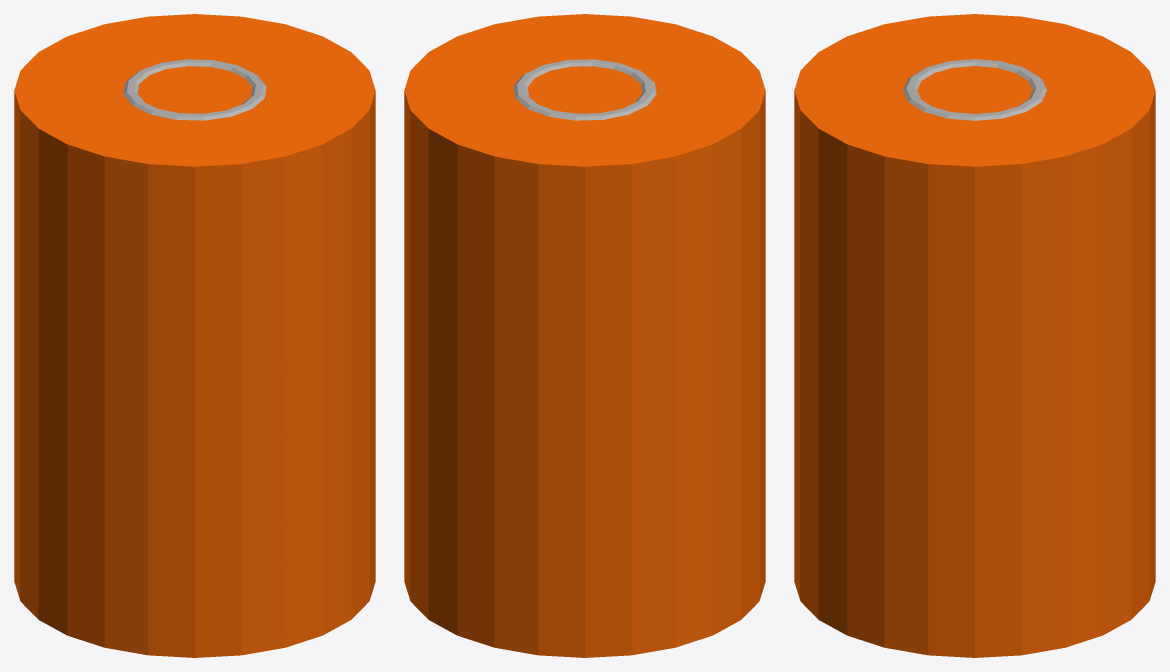
File: mirinda_can.glb
The picture shows the model from 3 angles, left to right: view 1: azimuth 30°, elevation 25°; view 2: azimuth 150°, elevation 25°; view 3: azimuth 270°, elevation 25°; orthographic projection.
Parts seen in each view (by area): view 1: CanBody; view 2: CanBody; view 3: CanBody.
Boxes of the visible parts, box(x1,y1,x2,y2) form: CanBody: box(14, 14, 375, 657); CanBody: box(404, 14, 765, 657); CanBody: box(794, 14, 1155, 657).
Size of the model in its own units: 1 by 1.51 by 1.
